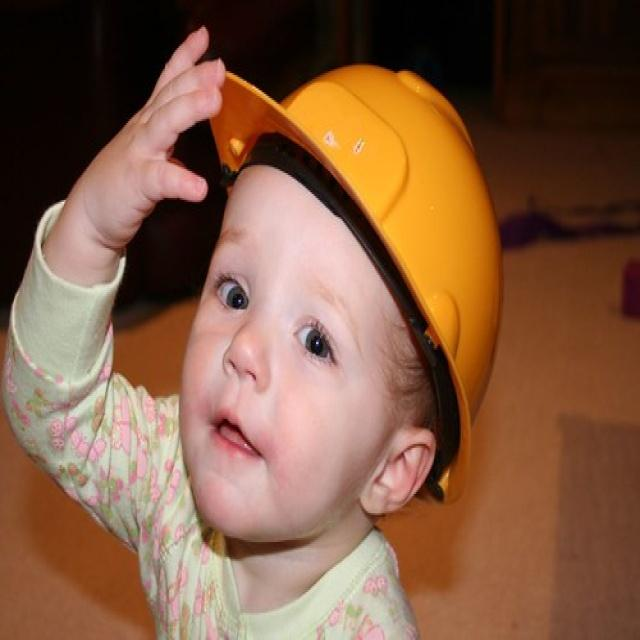helmet: (205, 92, 511, 640)
